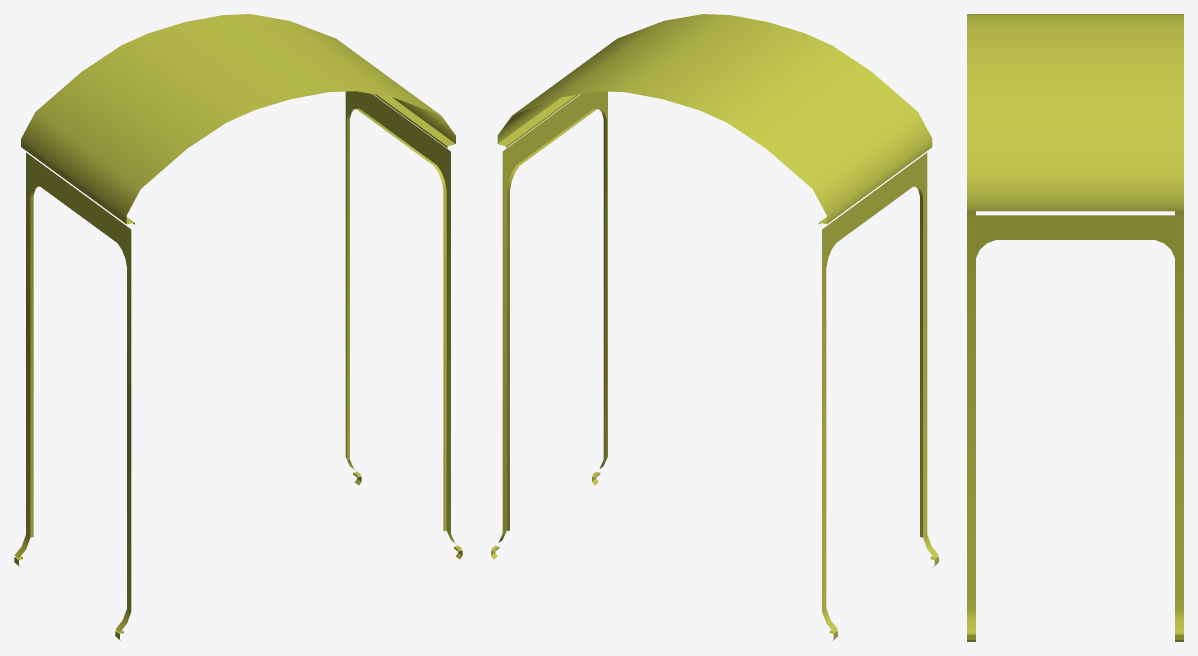
The model's file is vagon enter double lod2.FBX.
3 renders of one model, left to right at view 1: azimuth 30°, elevation 25°; view 2: azimuth 150°, elevation 25°; view 3: azimuth 270°, elevation 25°, orthographic. The views are drawn at different scales.
Visible parts, largest first — view 1: Object1193; view 2: Object1193; view 3: Object1193.
Boxes of the visible parts, left/top/right/bottom form: Object1193: left=14, top=14, right=462, bottom=641; Object1193: left=491, top=14, right=938, bottom=640; Object1193: left=967, top=14, right=1183, bottom=641.
Bounding box in the file's own units: 2.25 × 3.15 × 1.2.
